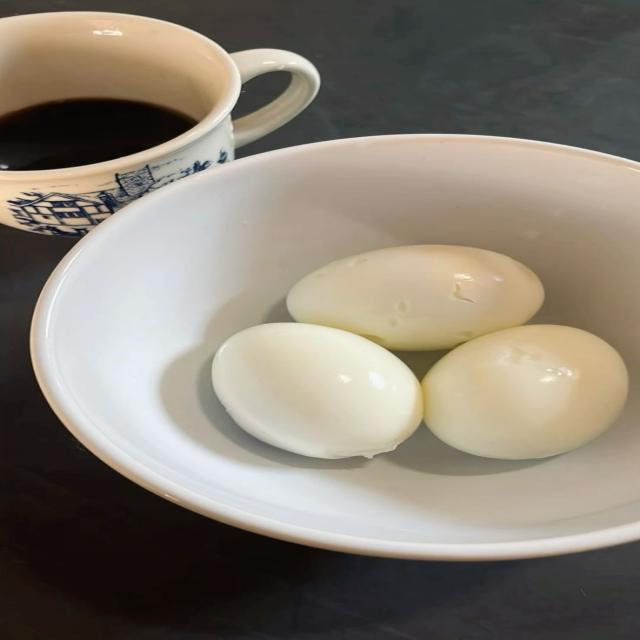egg boiled: (213, 323, 422, 458), (422, 325, 627, 459), (287, 245, 544, 350)
